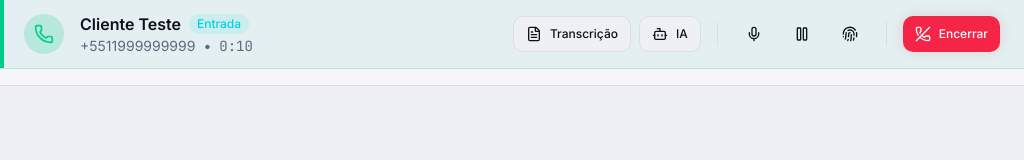
it: ActiveCallBar: verificacao de voz ao vivo (etapa 155) › avisa na barra quando a voz nao confere com o padrao cadastrado
Click the button named "Verificar a voz do cliente nesta chamada". click: (850, 34)
box: [830,14,870,54]
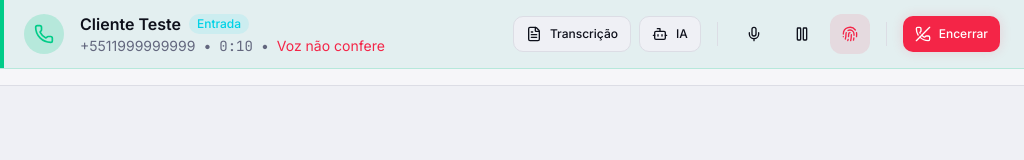
expect the text "Voz não confere" is shown: met, box [277,36,385,56]
